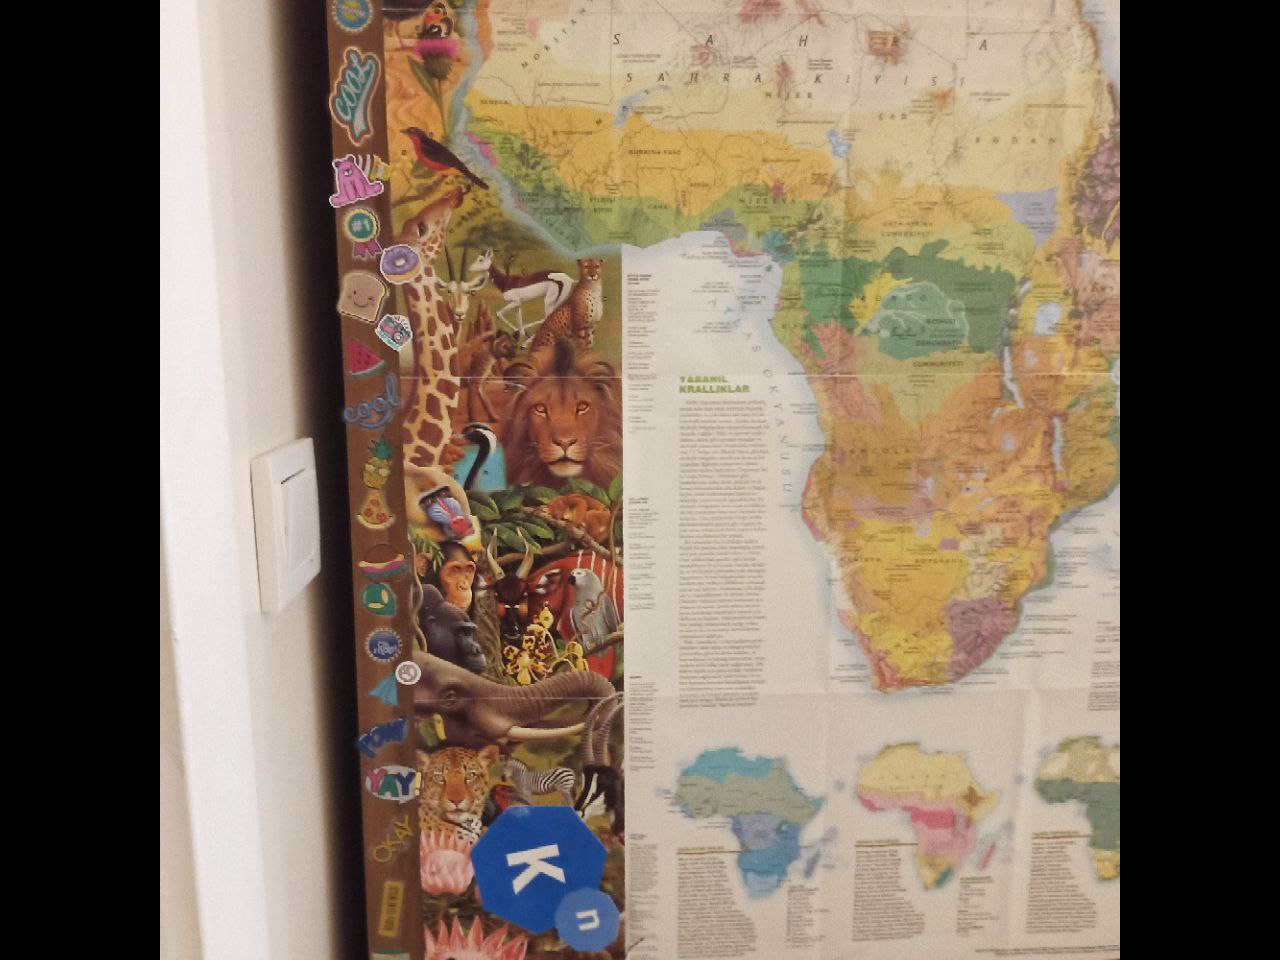knative: (468, 806, 622, 954)
